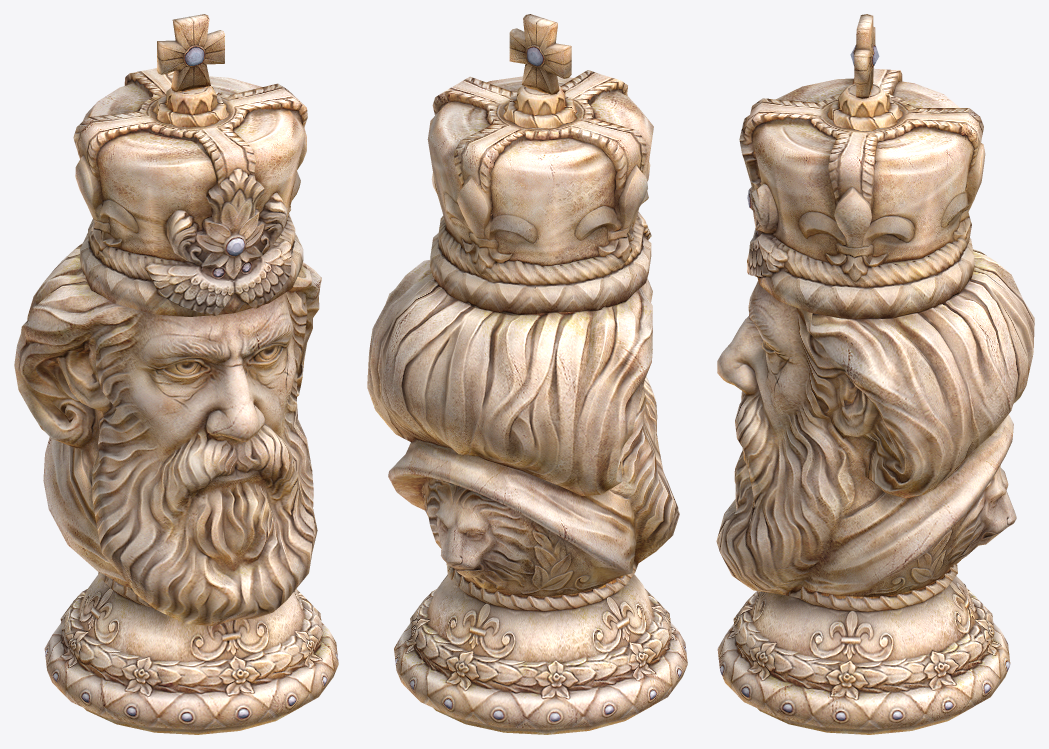
File: chess_piece_king.glb
3 renders of one model, left to right at view 1: azimuth 30°, elevation 25°; view 2: azimuth 150°, elevation 25°; view 3: azimuth 270°, elevation 25°, orthographic.
Parts seen in each view (by area): view 1: Object_2; view 2: Object_2; view 3: Object_2.
Part boxes in pixels (x1=…): Object_2: x1=14, y1=14, x2=338, y2=734; Object_2: x1=367, y1=14, x2=687, y2=734; Object_2: x1=716, y1=14, x2=1034, y2=734.
Size of the model in its own units: 0.1331 by 0.3004 by 0.1311.
1 material, 1 textured.
